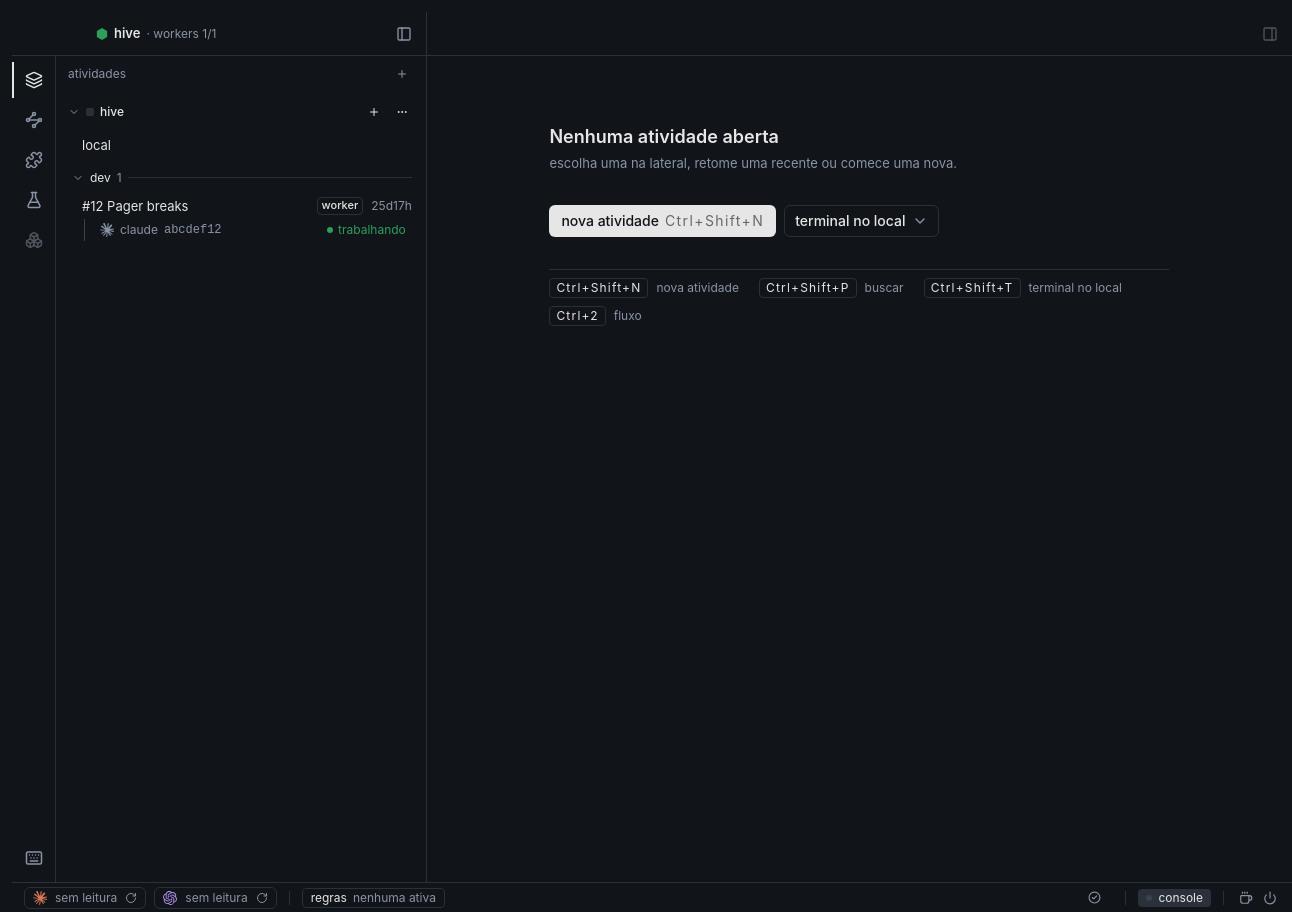
Test: with another source picked, see in flow moves the pick to the task's source
Click the button named "fluxo" at (34, 120), box [12,102,56,138]
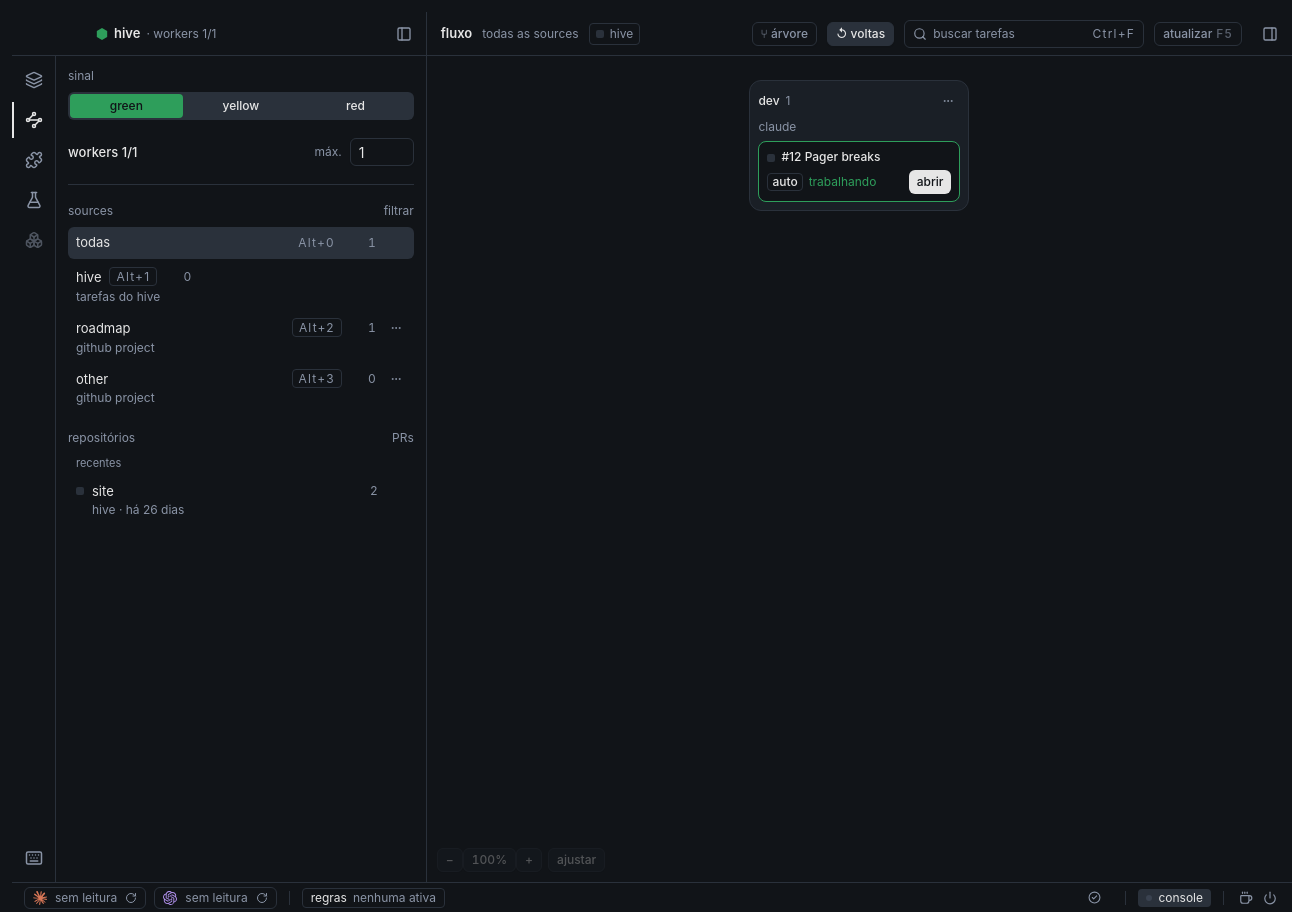
Click the button "other Alt+3 0 github project" at (92, 379), box [68,364,414,412]
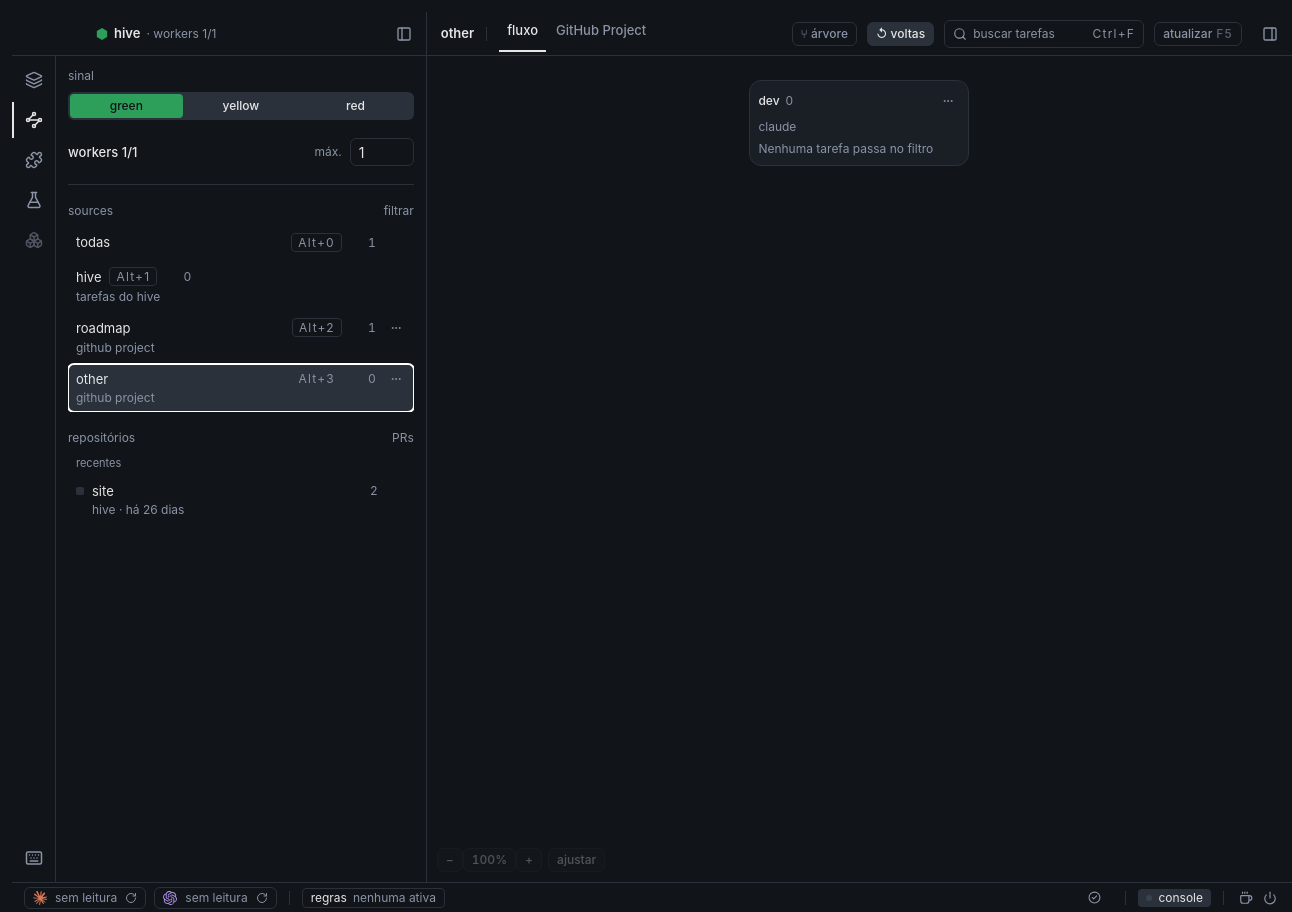
Expected: the text "other" in the row of "Ctrl+F" is shown, [441,25,474,41]
Click the button named "atividades" at (34, 80), box [12,62,56,98]
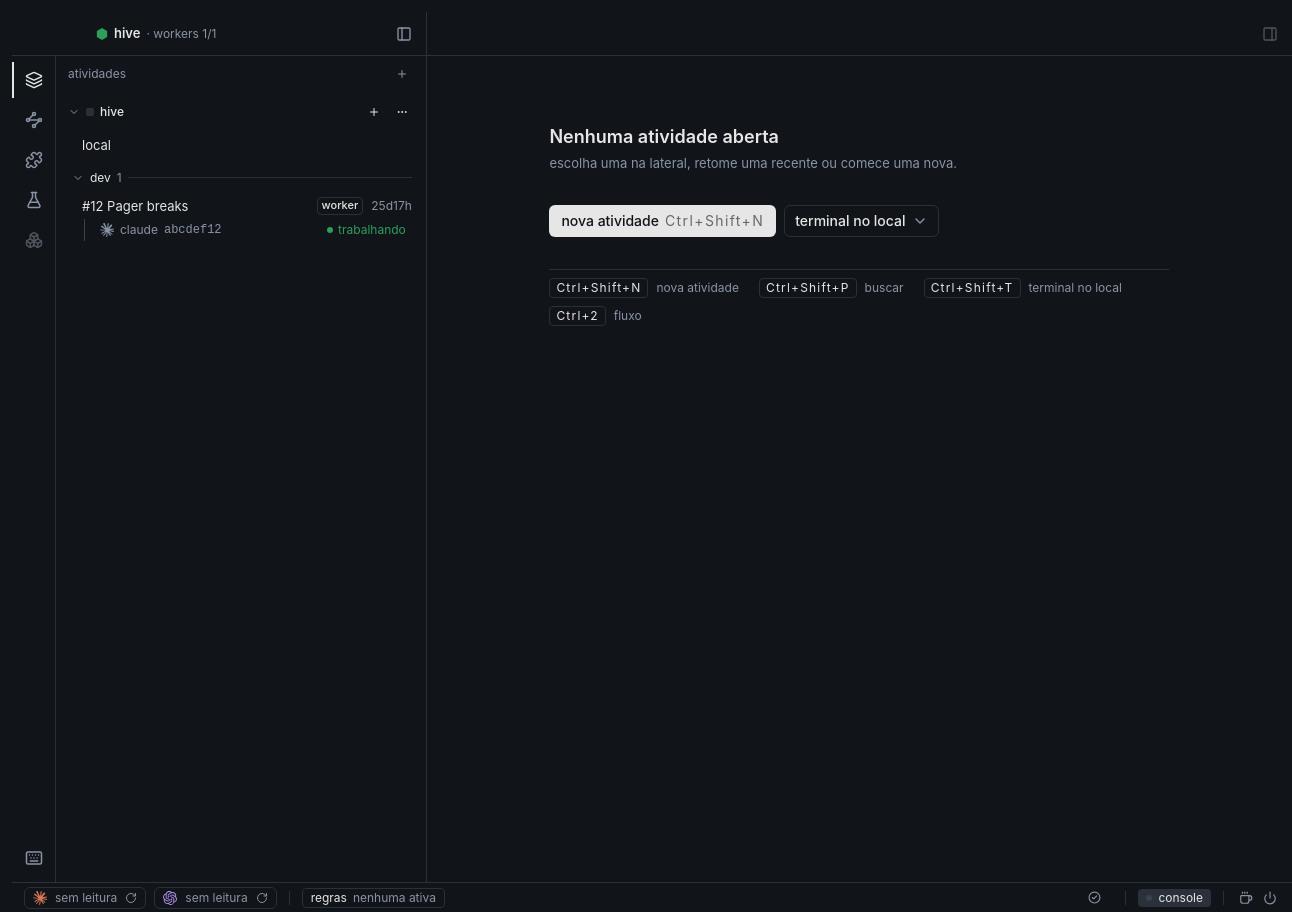
Click the button "#12 Pager breaks worker 25d17h" at (135, 206), box [82,197,412,215]
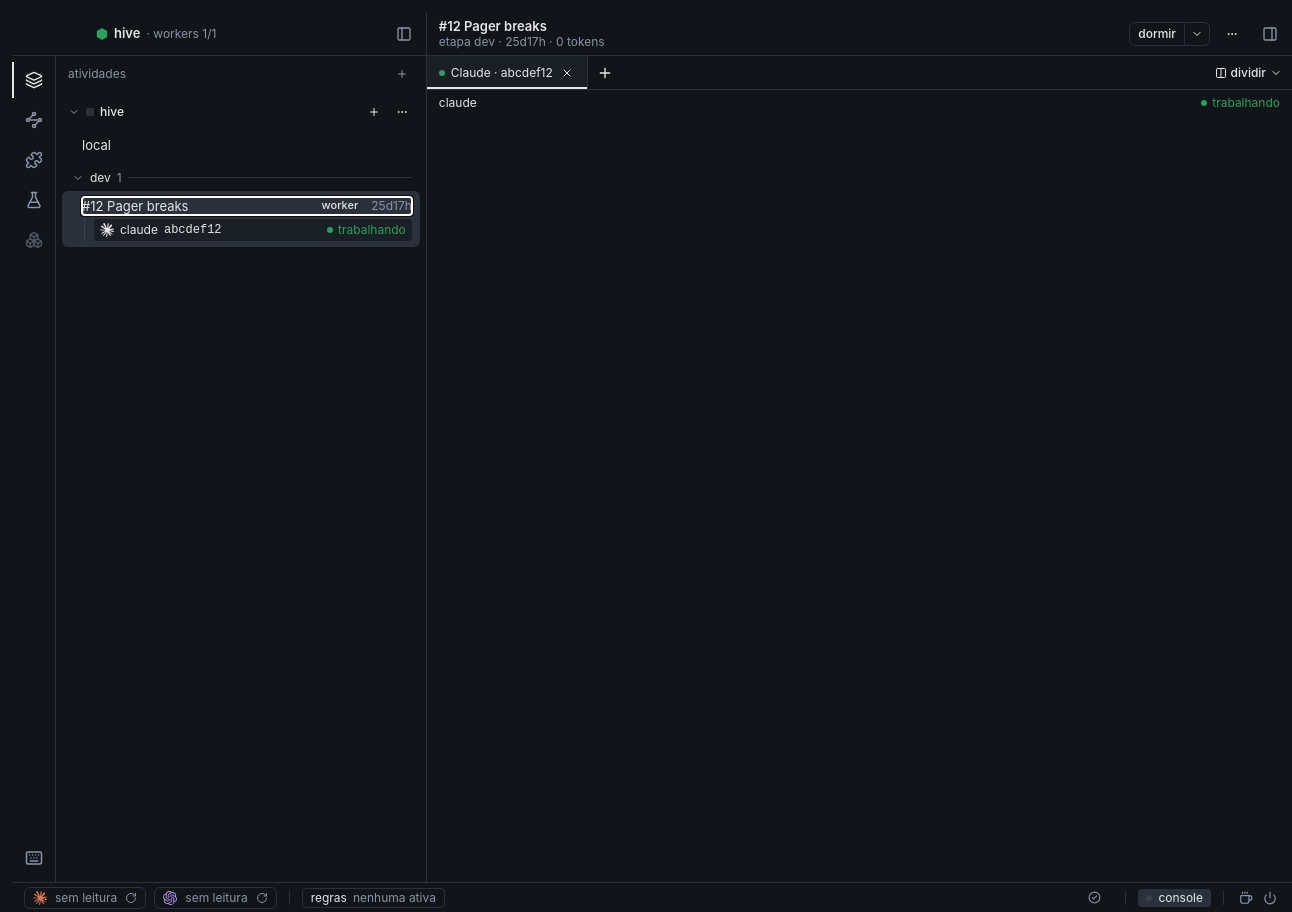
Press E
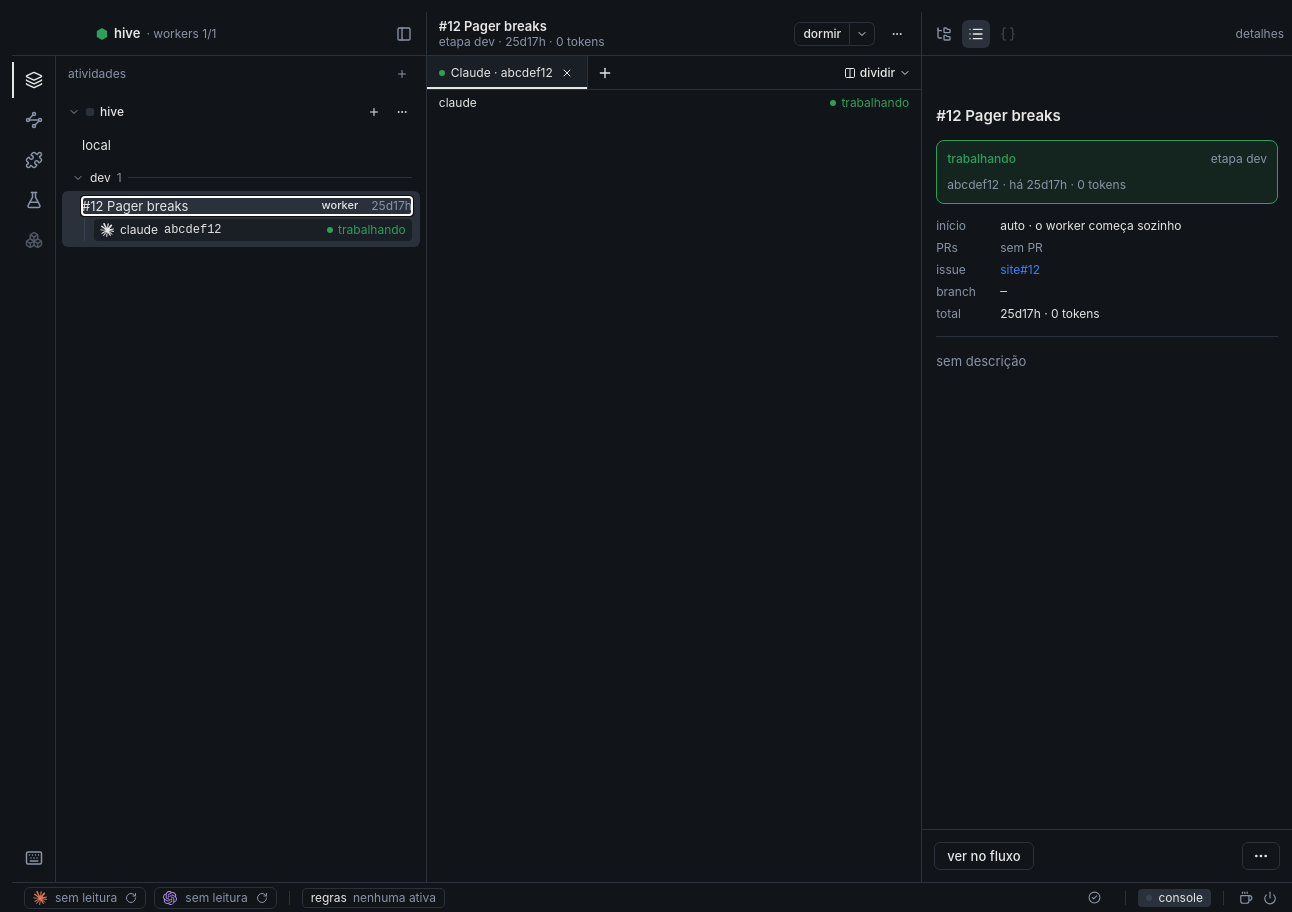
Click the button "ver no fluxo" at (984, 856), box [934,842,1034,870]
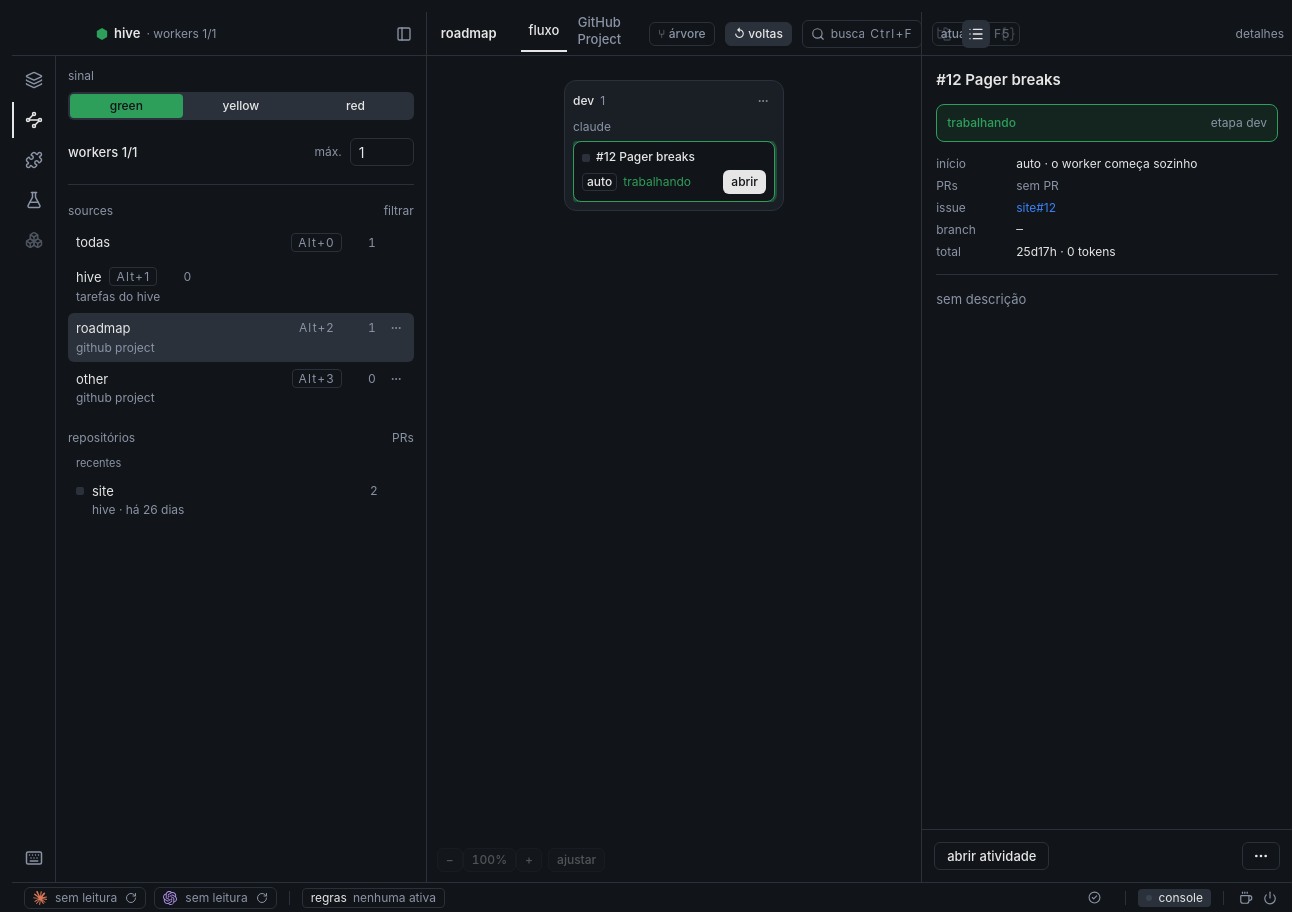
Expected: the heading "#12 Pager breaks" is shown, [936,70,1061,89]
Expected: the tab "GitHub Project" is shown, [569,12,629,52]
